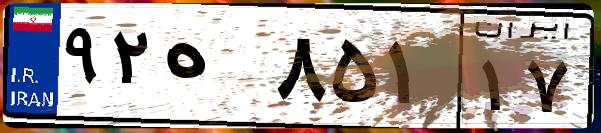1: (385, 28, 445, 110), (475, 38, 525, 113)
2: (110, 28, 158, 98)
5: (330, 28, 385, 110)
7: (525, 38, 570, 115)
8: (270, 28, 330, 110)
9: (57, 26, 110, 100)
ه: (158, 20, 270, 120)
